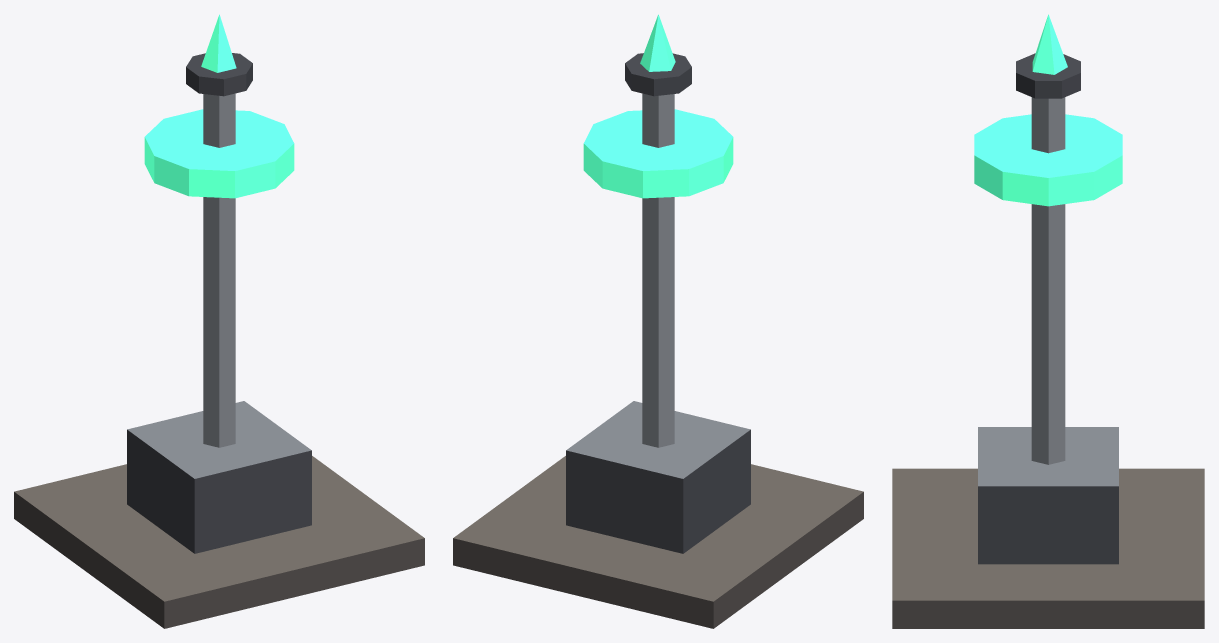
File: small_hub.glb
3 views of the same model, side by side, from view 1: azimuth 30°, elevation 25°; view 2: azimuth 150°, elevation 25°; view 3: azimuth 270°, elevation 25° (orthographic). The views are drawn at different scales.
Parts seen in each view (by area): view 1: small_hub; view 2: small_hub; view 3: small_hub.
Boxes of the visible parts, x1=… form: small_hub: x1=14, y1=14, x2=424, y2=628; small_hub: x1=453, y1=14, x2=863, y2=628; small_hub: x1=892, y1=14, x2=1204, y2=628.
Size of the model in its own units: 0.8 by 1.55 by 0.8.
